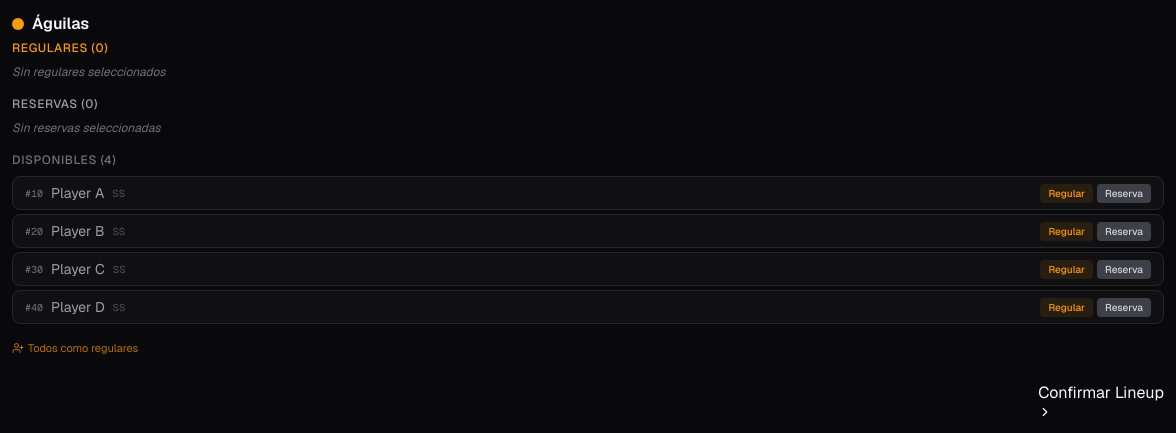
LineupSelector › assigns all available as regulars with shortcut
This screenshot has width=1176, height=433.
Click the button "Todos como regulares" at (75, 348), box x1=12 y1=340 x2=138 y2=356
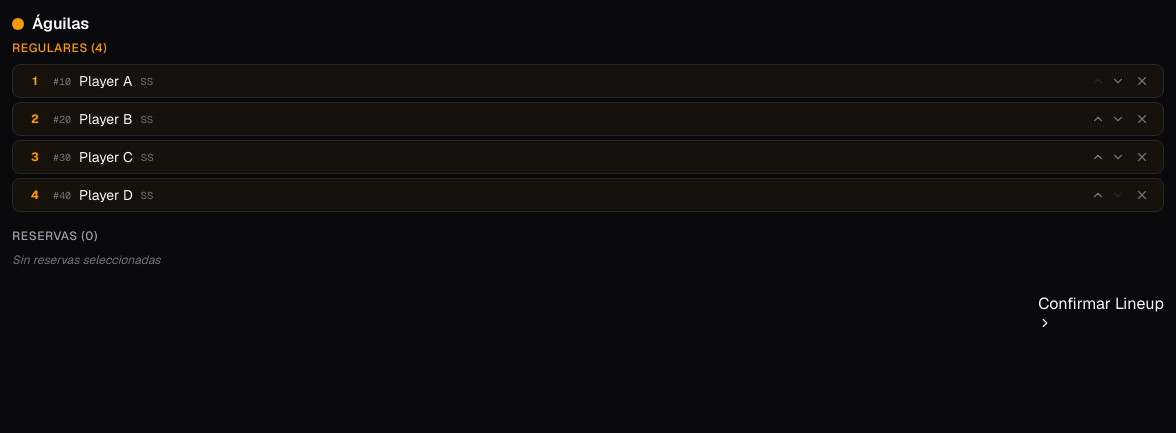
expect the heading "Regulares (4)" is shown: met, box x1=12 y1=40 x2=107 y2=56
expect the heading "Disponibles" is gone: met
